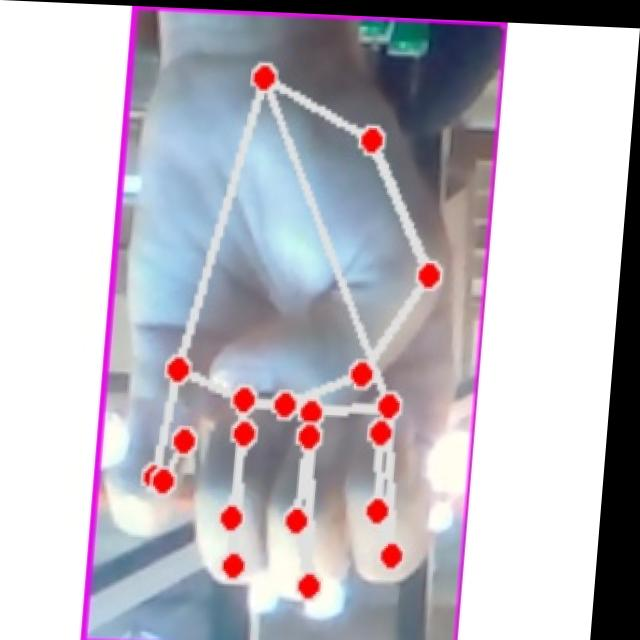E: (102, 30, 495, 619)
